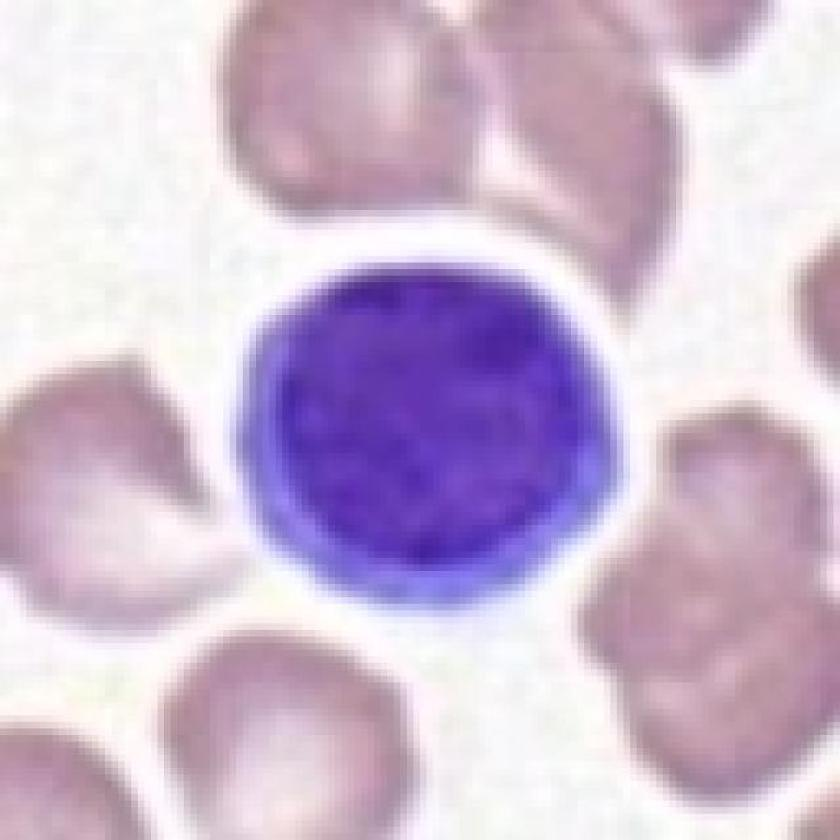lymphocyte: (235, 260, 632, 623)
